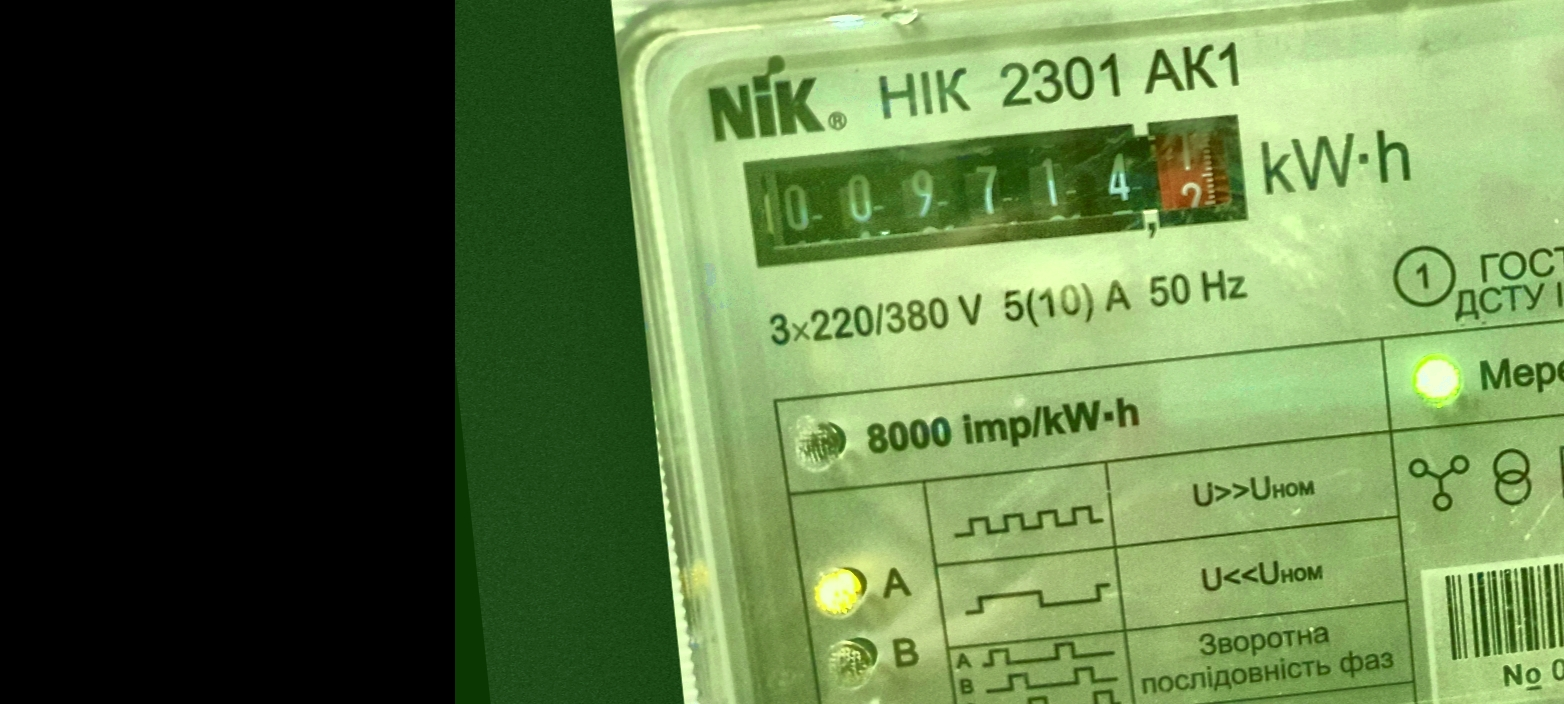0: (779, 179, 813, 235), (843, 169, 875, 225)
1: (1036, 152, 1064, 209), (1175, 130, 1194, 173)
2: (1178, 177, 1204, 209)
4: (1101, 149, 1135, 206)
7: (972, 161, 1004, 217)
9: (905, 165, 939, 220)
screen: (727, 94, 1267, 290)
